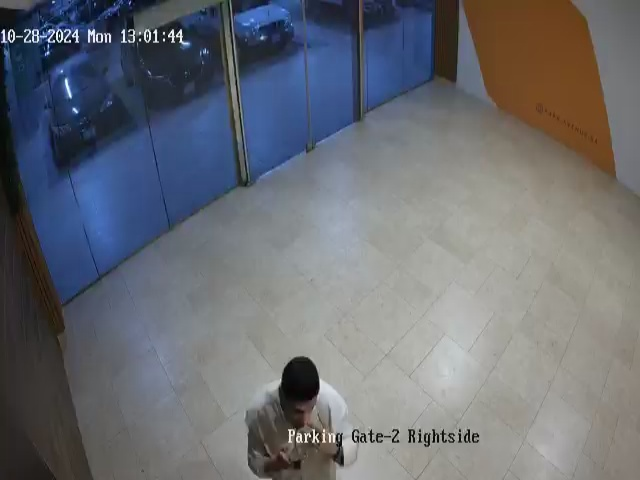male: (244, 355, 360, 480)
